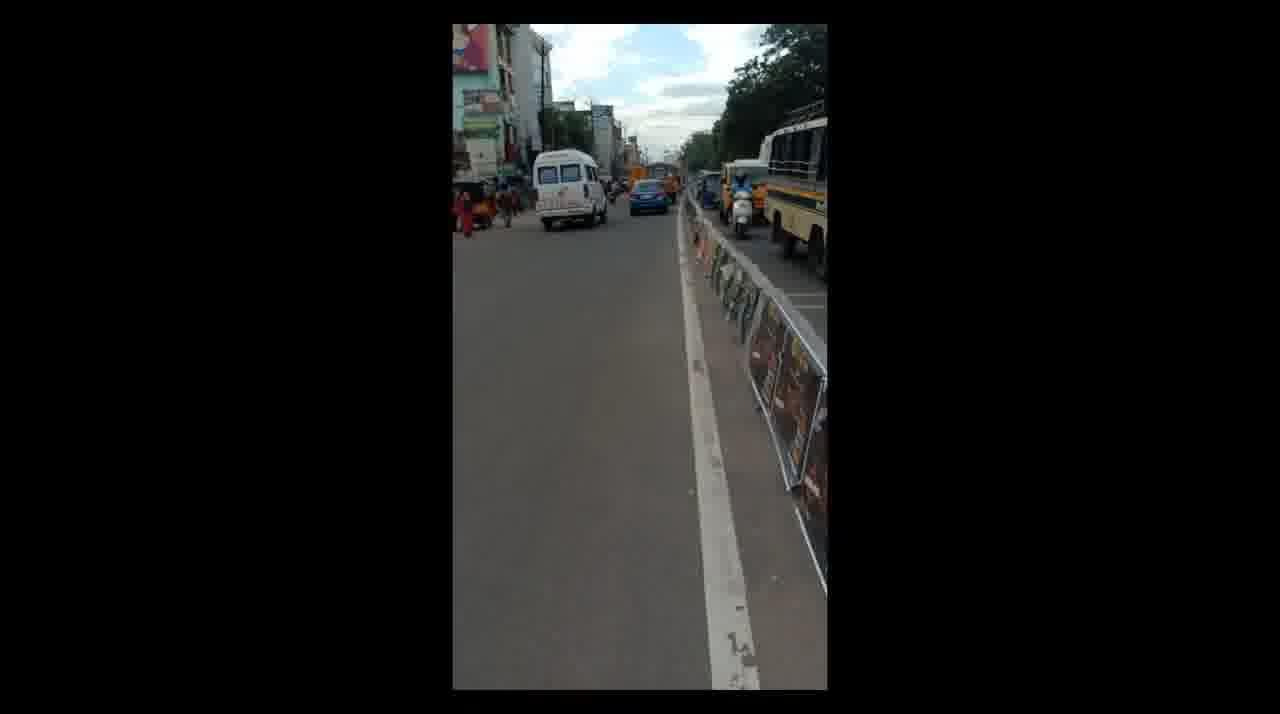AMBULANCE: (521, 143, 619, 250)
